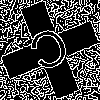C: (25, 25, 77, 82)
